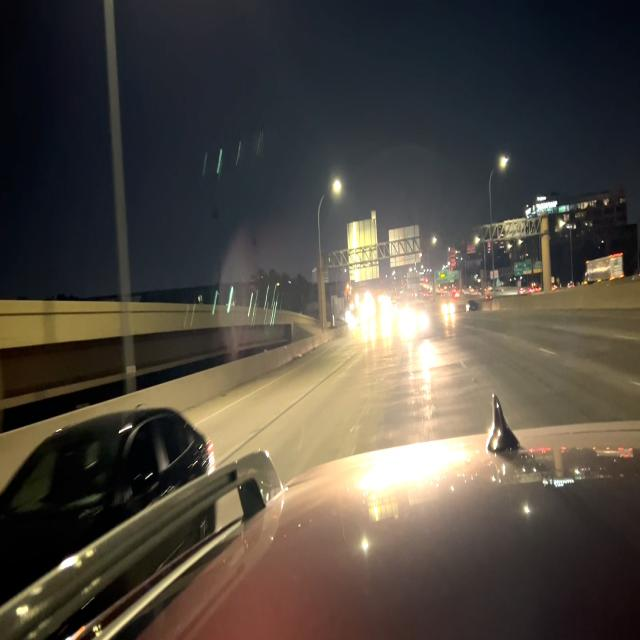back-of-sign: (345, 211, 380, 285), (388, 223, 421, 269), (504, 216, 528, 243)
